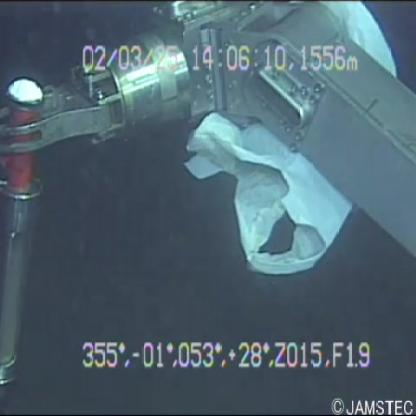Rov: (1, 9, 416, 400)
Rác: (162, 5, 403, 277)
